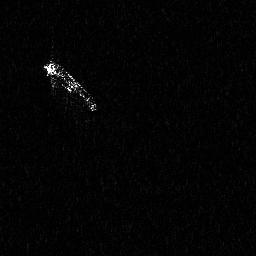ship: (42, 60, 97, 117)
